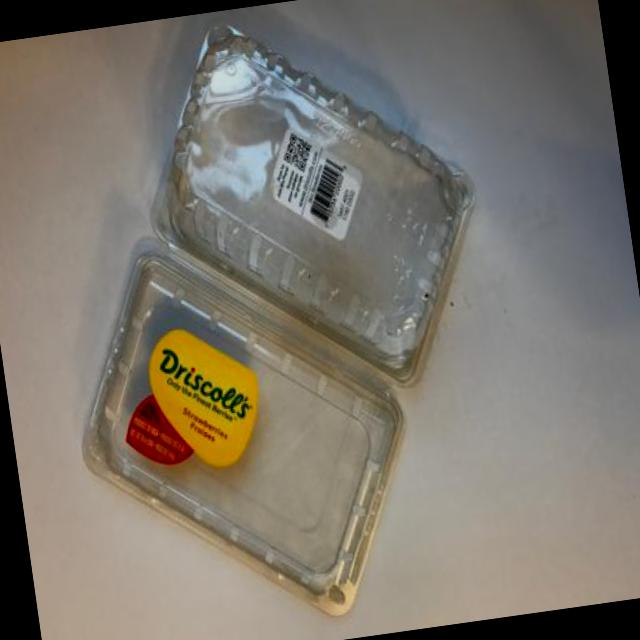Trash: (28, 0, 534, 640)
